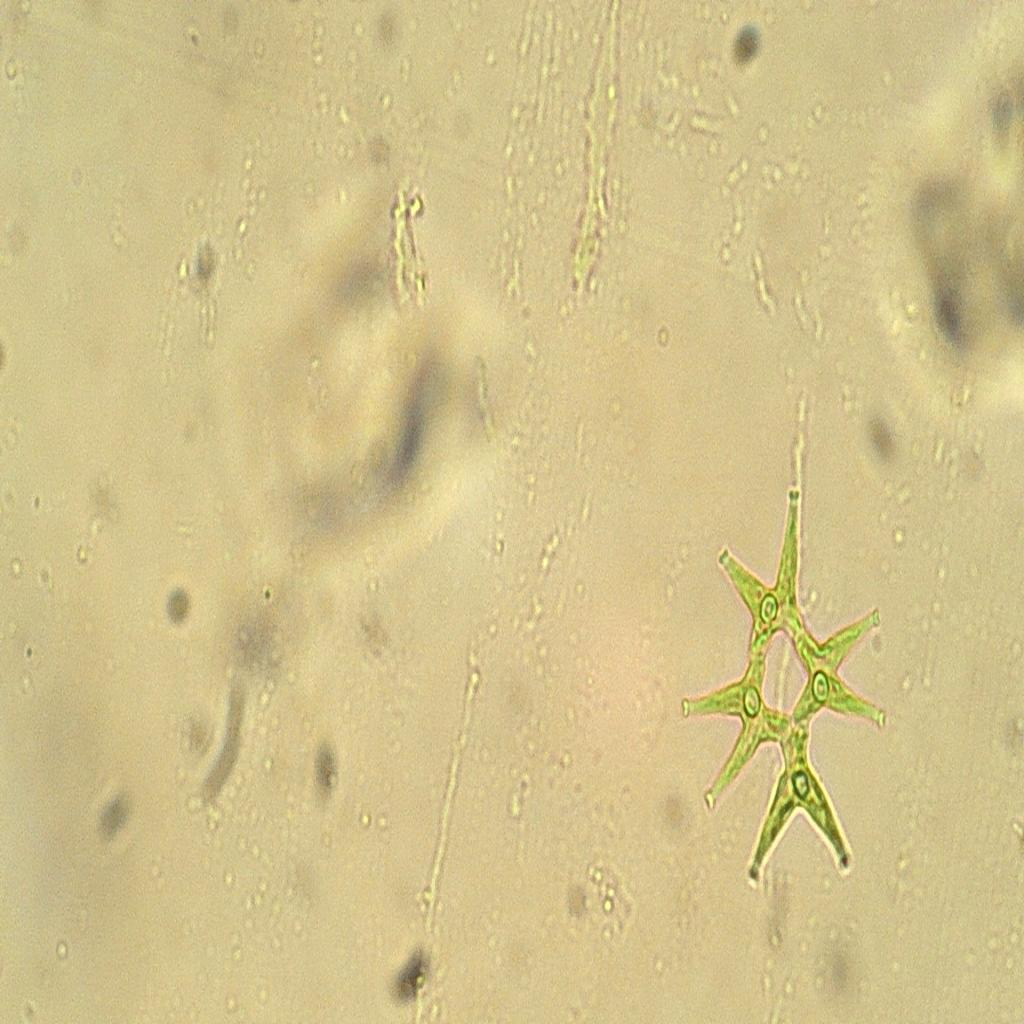Pediastrum_75FI: (675, 460, 890, 908)
